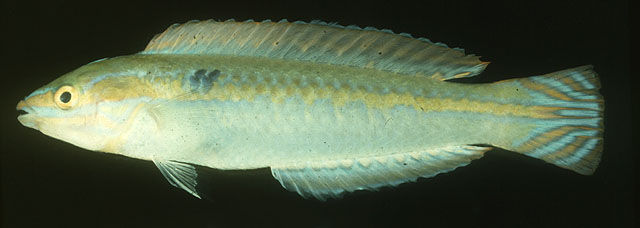fish: (16, 19, 606, 200)
